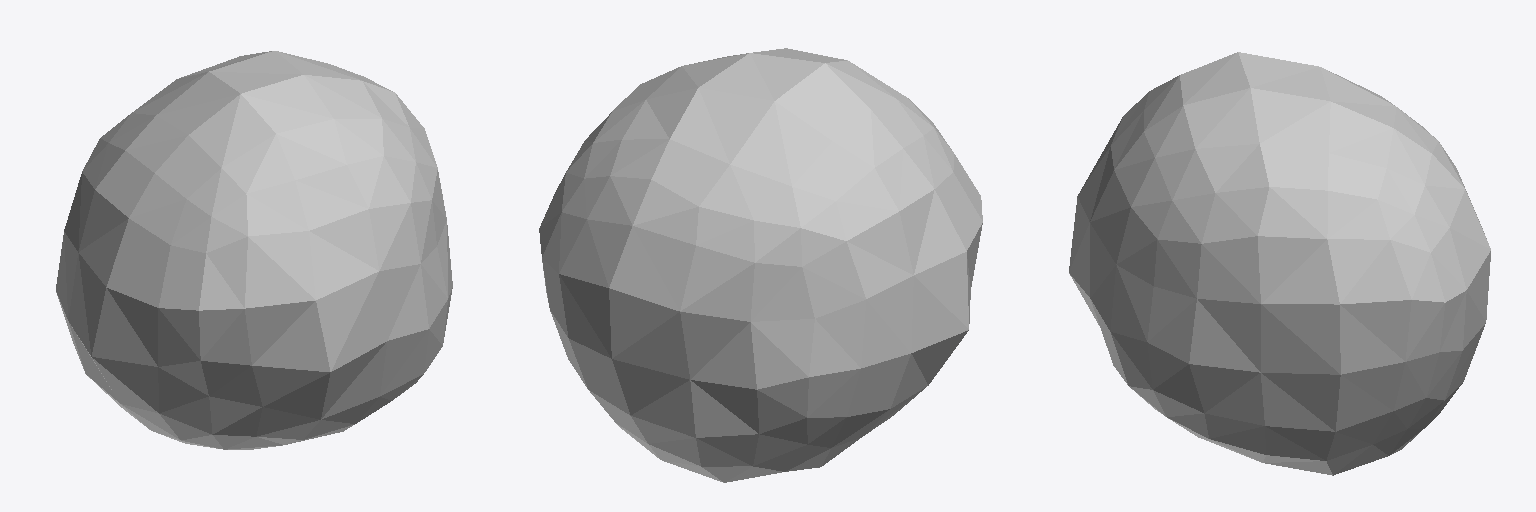
Rendered from rock5.obj.
The picture shows the model from 3 angles: view 1: azimuth 30°, elevation 25°; view 2: azimuth 150°, elevation 25°; view 3: azimuth 270°, elevation 25°; orthographic projection.
Parts seen in each view (by area): view 1: rock5; view 2: rock5; view 3: rock5.
Part boxes in pixels (x1,y1,x2,y2): rock5: (56,51,452,449); rock5: (539,48,982,482); rock5: (1069,52,1490,475).
Size of the model in its own units: 2.46 by 2.39 by 2.46.